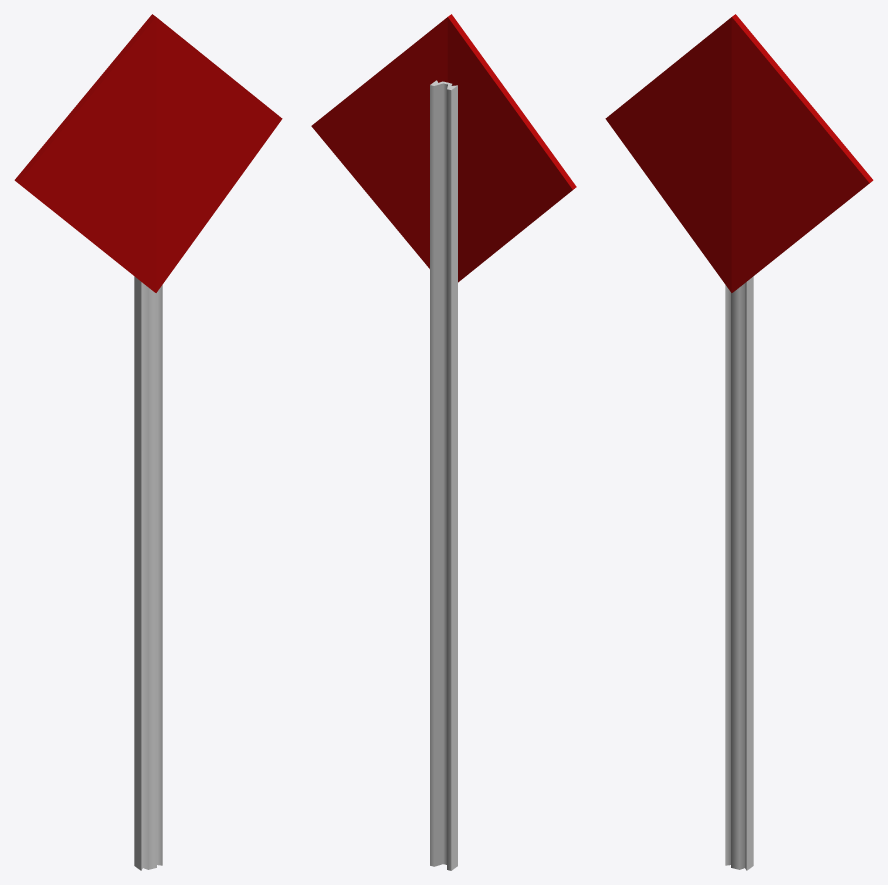
Rendered from diamond_sign.fbx.
3 views of the same model, side by side, from view 1: azimuth 30°, elevation 25°; view 2: azimuth 150°, elevation 25°; view 3: azimuth 330°, elevation 25° (orthographic).
Visible parts, largest first — view 1: pCube1, pCube2; view 2: pCube1, pCube2; view 3: pCube1, pCube2.
Part boxes in pixels (<box>): pCube1: <box>14,14,282,292</box>; pCube2: <box>134,276,162,870</box>; pCube1: <box>311,14,576,282</box>; pCube2: <box>430,80,457,870</box>; pCube1: <box>605,14,873,292</box>; pCube2: <box>725,276,753,870</box>.
Bounding box in the file's own units: 1.41 × 4.37 × 0.1028.
